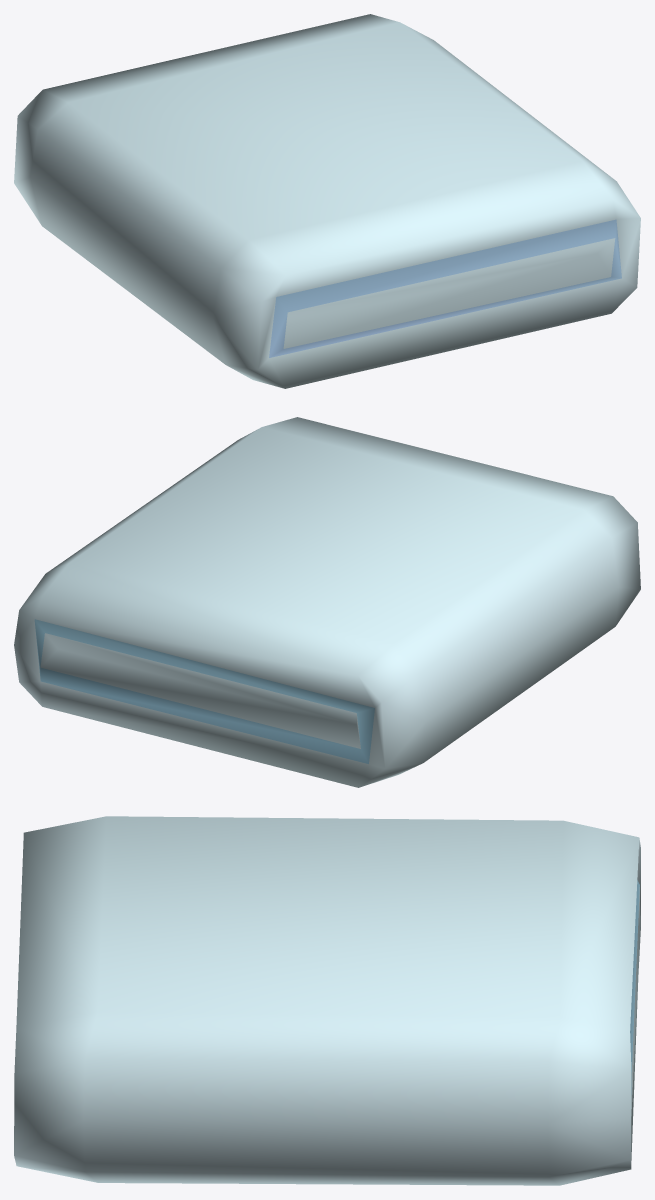
Rendered from Towel.fbx.
3 views of the same model, one above another, from view 1: azimuth 30°, elevation 25°; view 2: azimuth 150°, elevation 25°; view 3: azimuth 270°, elevation 25° (orthographic). The views are drawn at different scales.
Visible parts, largest first — view 1: Towel; view 2: Towel; view 3: Towel.
Part boxes in pixels (x1=…): Towel: x1=14, y1=14, x2=640, y2=388; Towel: x1=14, y1=417, x2=640, y2=787; Towel: x1=14, y1=816, x2=640, y2=1185.
Size of the model in its own units: 0.4843 by 0.1575 by 0.5244.
